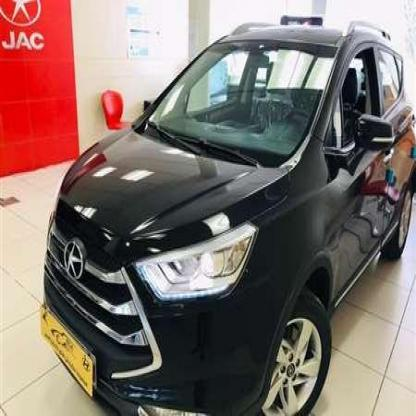Car: (40, 32, 416, 416)
